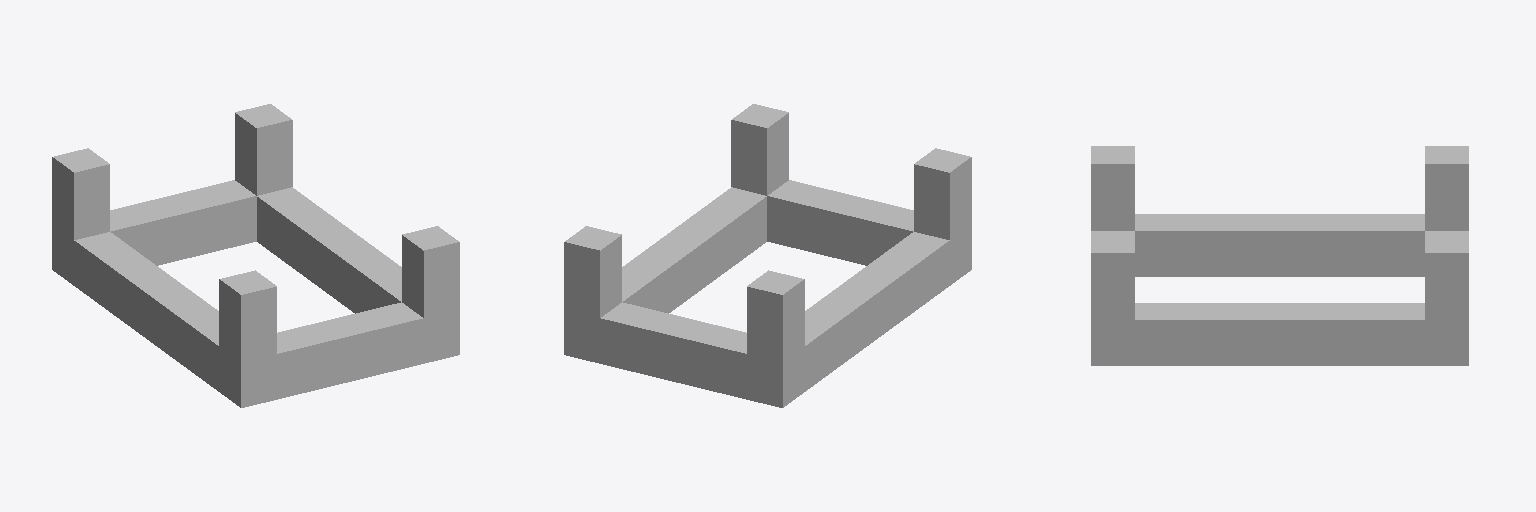
File: Rail.obj
The picture shows the model from 3 angles: view 1: azimuth 30°, elevation 25°; view 2: azimuth 150°, elevation 25°; view 3: azimuth 270°, elevation 25°; orthographic projection.
Parts seen in each view (by area): view 1: Rail; view 2: Rail; view 3: Rail.
Part boxes in pixels (left/top/right/bottom): Rail: left=52, top=104, right=459, bottom=407; Rail: left=564, top=104, right=971, bottom=407; Rail: left=1091, top=146, right=1468, bottom=365.
Bounding box in the file's own units: 0.6671 × 0.3309 × 1.